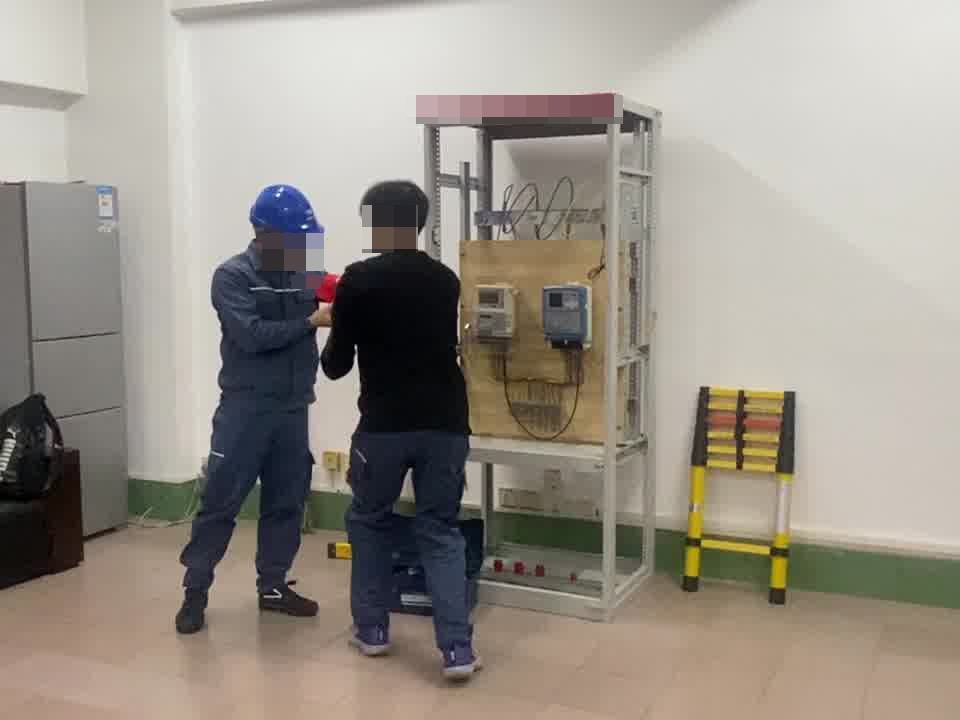badge: (317, 271, 341, 302)
downsuit: (346, 432, 480, 660), (179, 413, 315, 596)
halt: (248, 183, 323, 262)
hand: (308, 301, 335, 329)
inear: (249, 220, 276, 252)
noear: (365, 215, 393, 243)
person: (322, 177, 495, 678), (171, 181, 334, 624)
unhalt: (360, 178, 433, 252)
upcloth: (319, 251, 475, 426)
upsuit: (210, 251, 318, 396)
